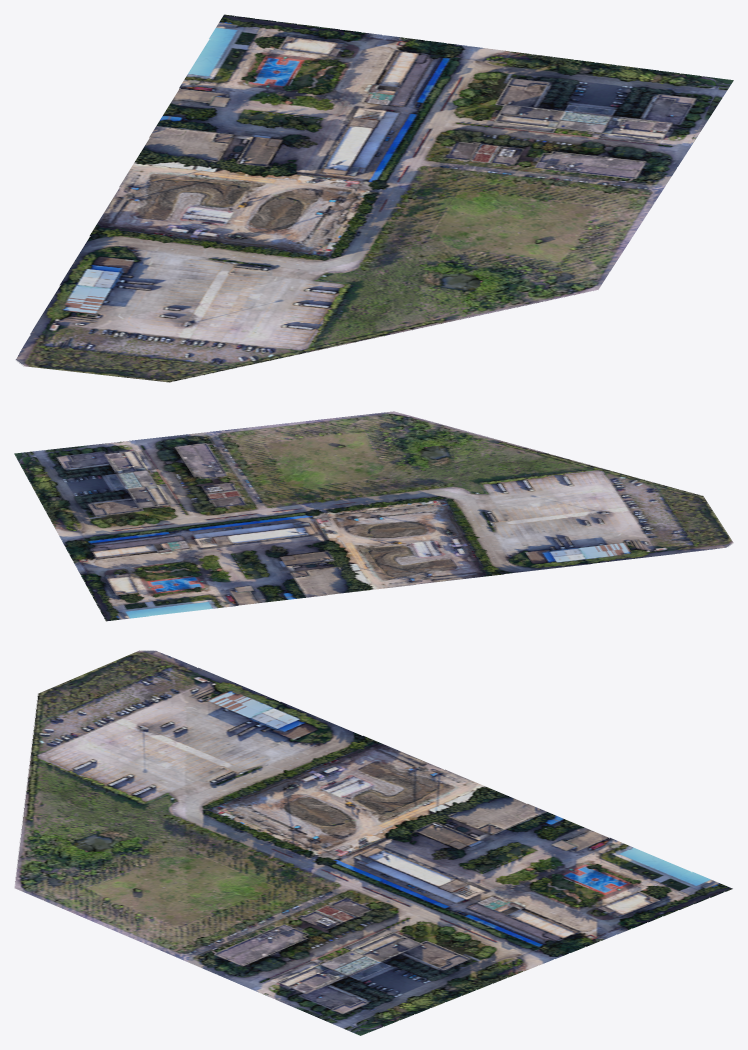
File: dixing_04_222.fbx
3 renders of one model, top to bottom at view 1: azimuth 30°, elevation 25°; view 2: azimuth 150°, elevation 25°; view 3: azimuth 270°, elevation 25°, orthographic. The views are drawn at different scales.
Parts seen in each view (by area): view 1: Line001; view 2: Line001; view 3: Line001.
Boxes of the visible parts, box(x1,y1,x2,y2) form: Line001: box(15, 14, 733, 382); Line001: box(14, 411, 733, 621); Line001: box(14, 650, 732, 1035).
Bounding box in the file's own units: 44868 × 0.00422 × 35377.
